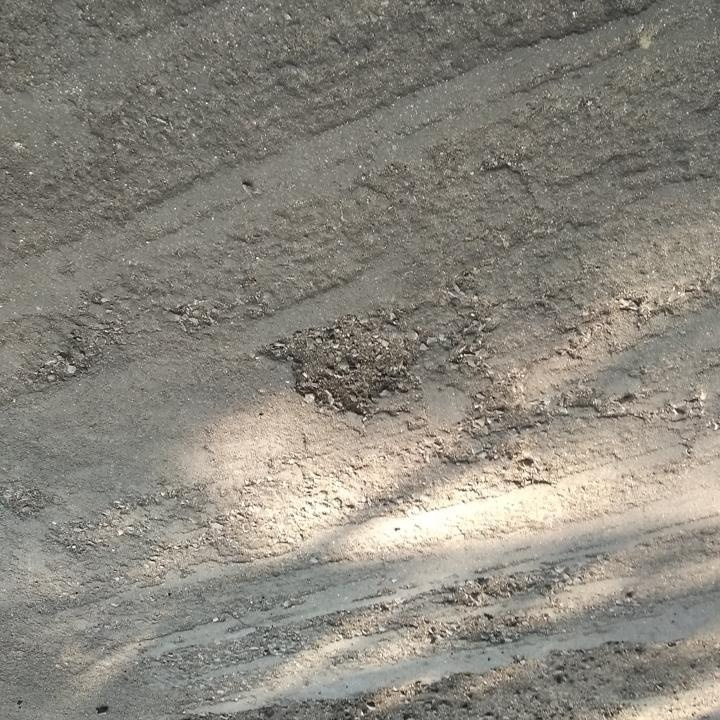pothole: (258, 309, 427, 418), (442, 570, 538, 610), (447, 612, 540, 647)
